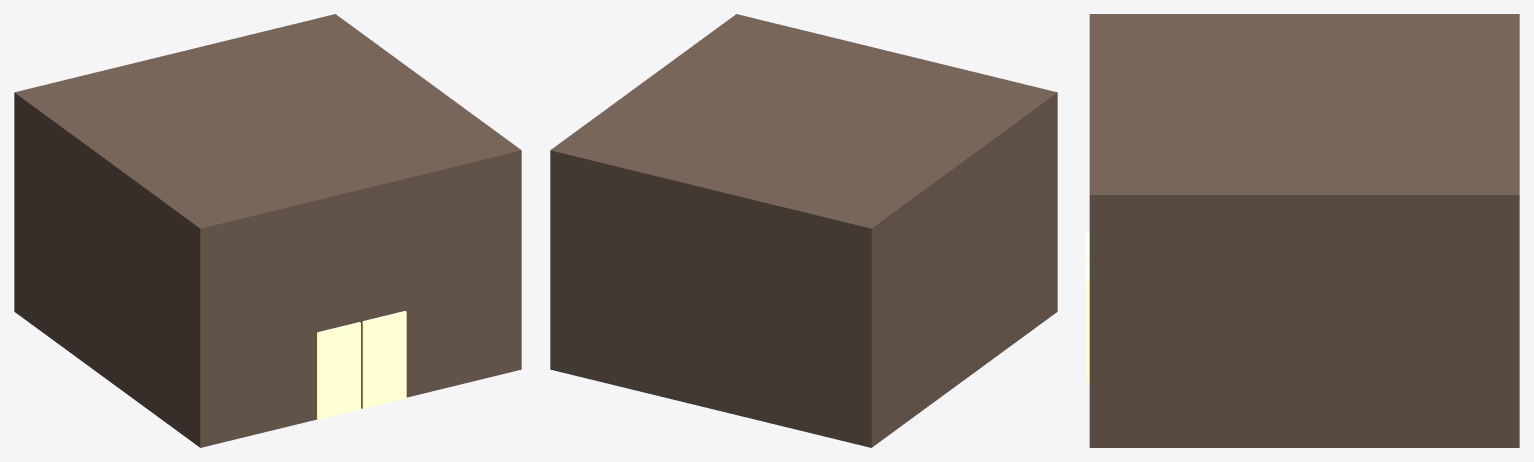
3 views of the same model, side by side, from view 1: azimuth 30°, elevation 25°; view 2: azimuth 150°, elevation 25°; view 3: azimuth 270°, elevation 25° (orthographic). The views are drawn at different scales.
Visible parts, largest first — view 1: Cube.028, Cube; view 2: Cube.028; view 3: Cube.028, Cube.
Boxes of the visible parts, x1,y1,x2,y2 form: Cube.028: [14, 14, 521, 447]; Cube: [317, 311, 406, 419]; Cube.028: [550, 14, 1057, 447]; Cube.028: [1089, 14, 1519, 447]; Cube: [1086, 232, 1089, 381].
Size of the model in its own units: 12.41 by 8.1 by 12.56.
